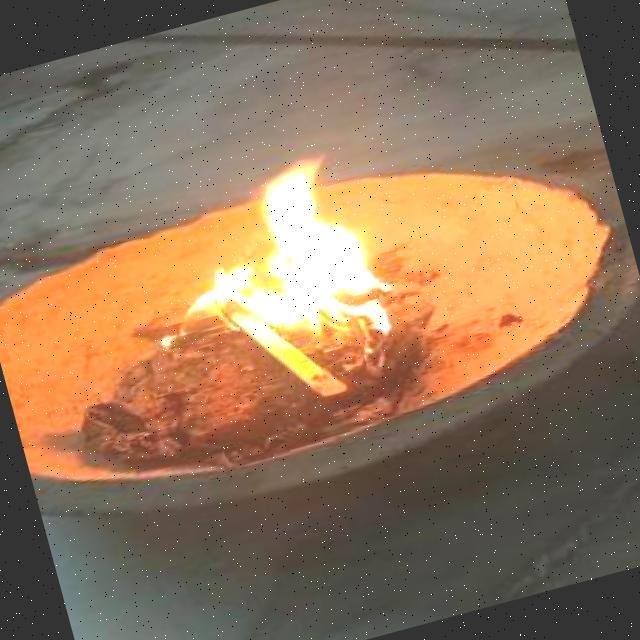fire: (150, 145, 398, 373)
